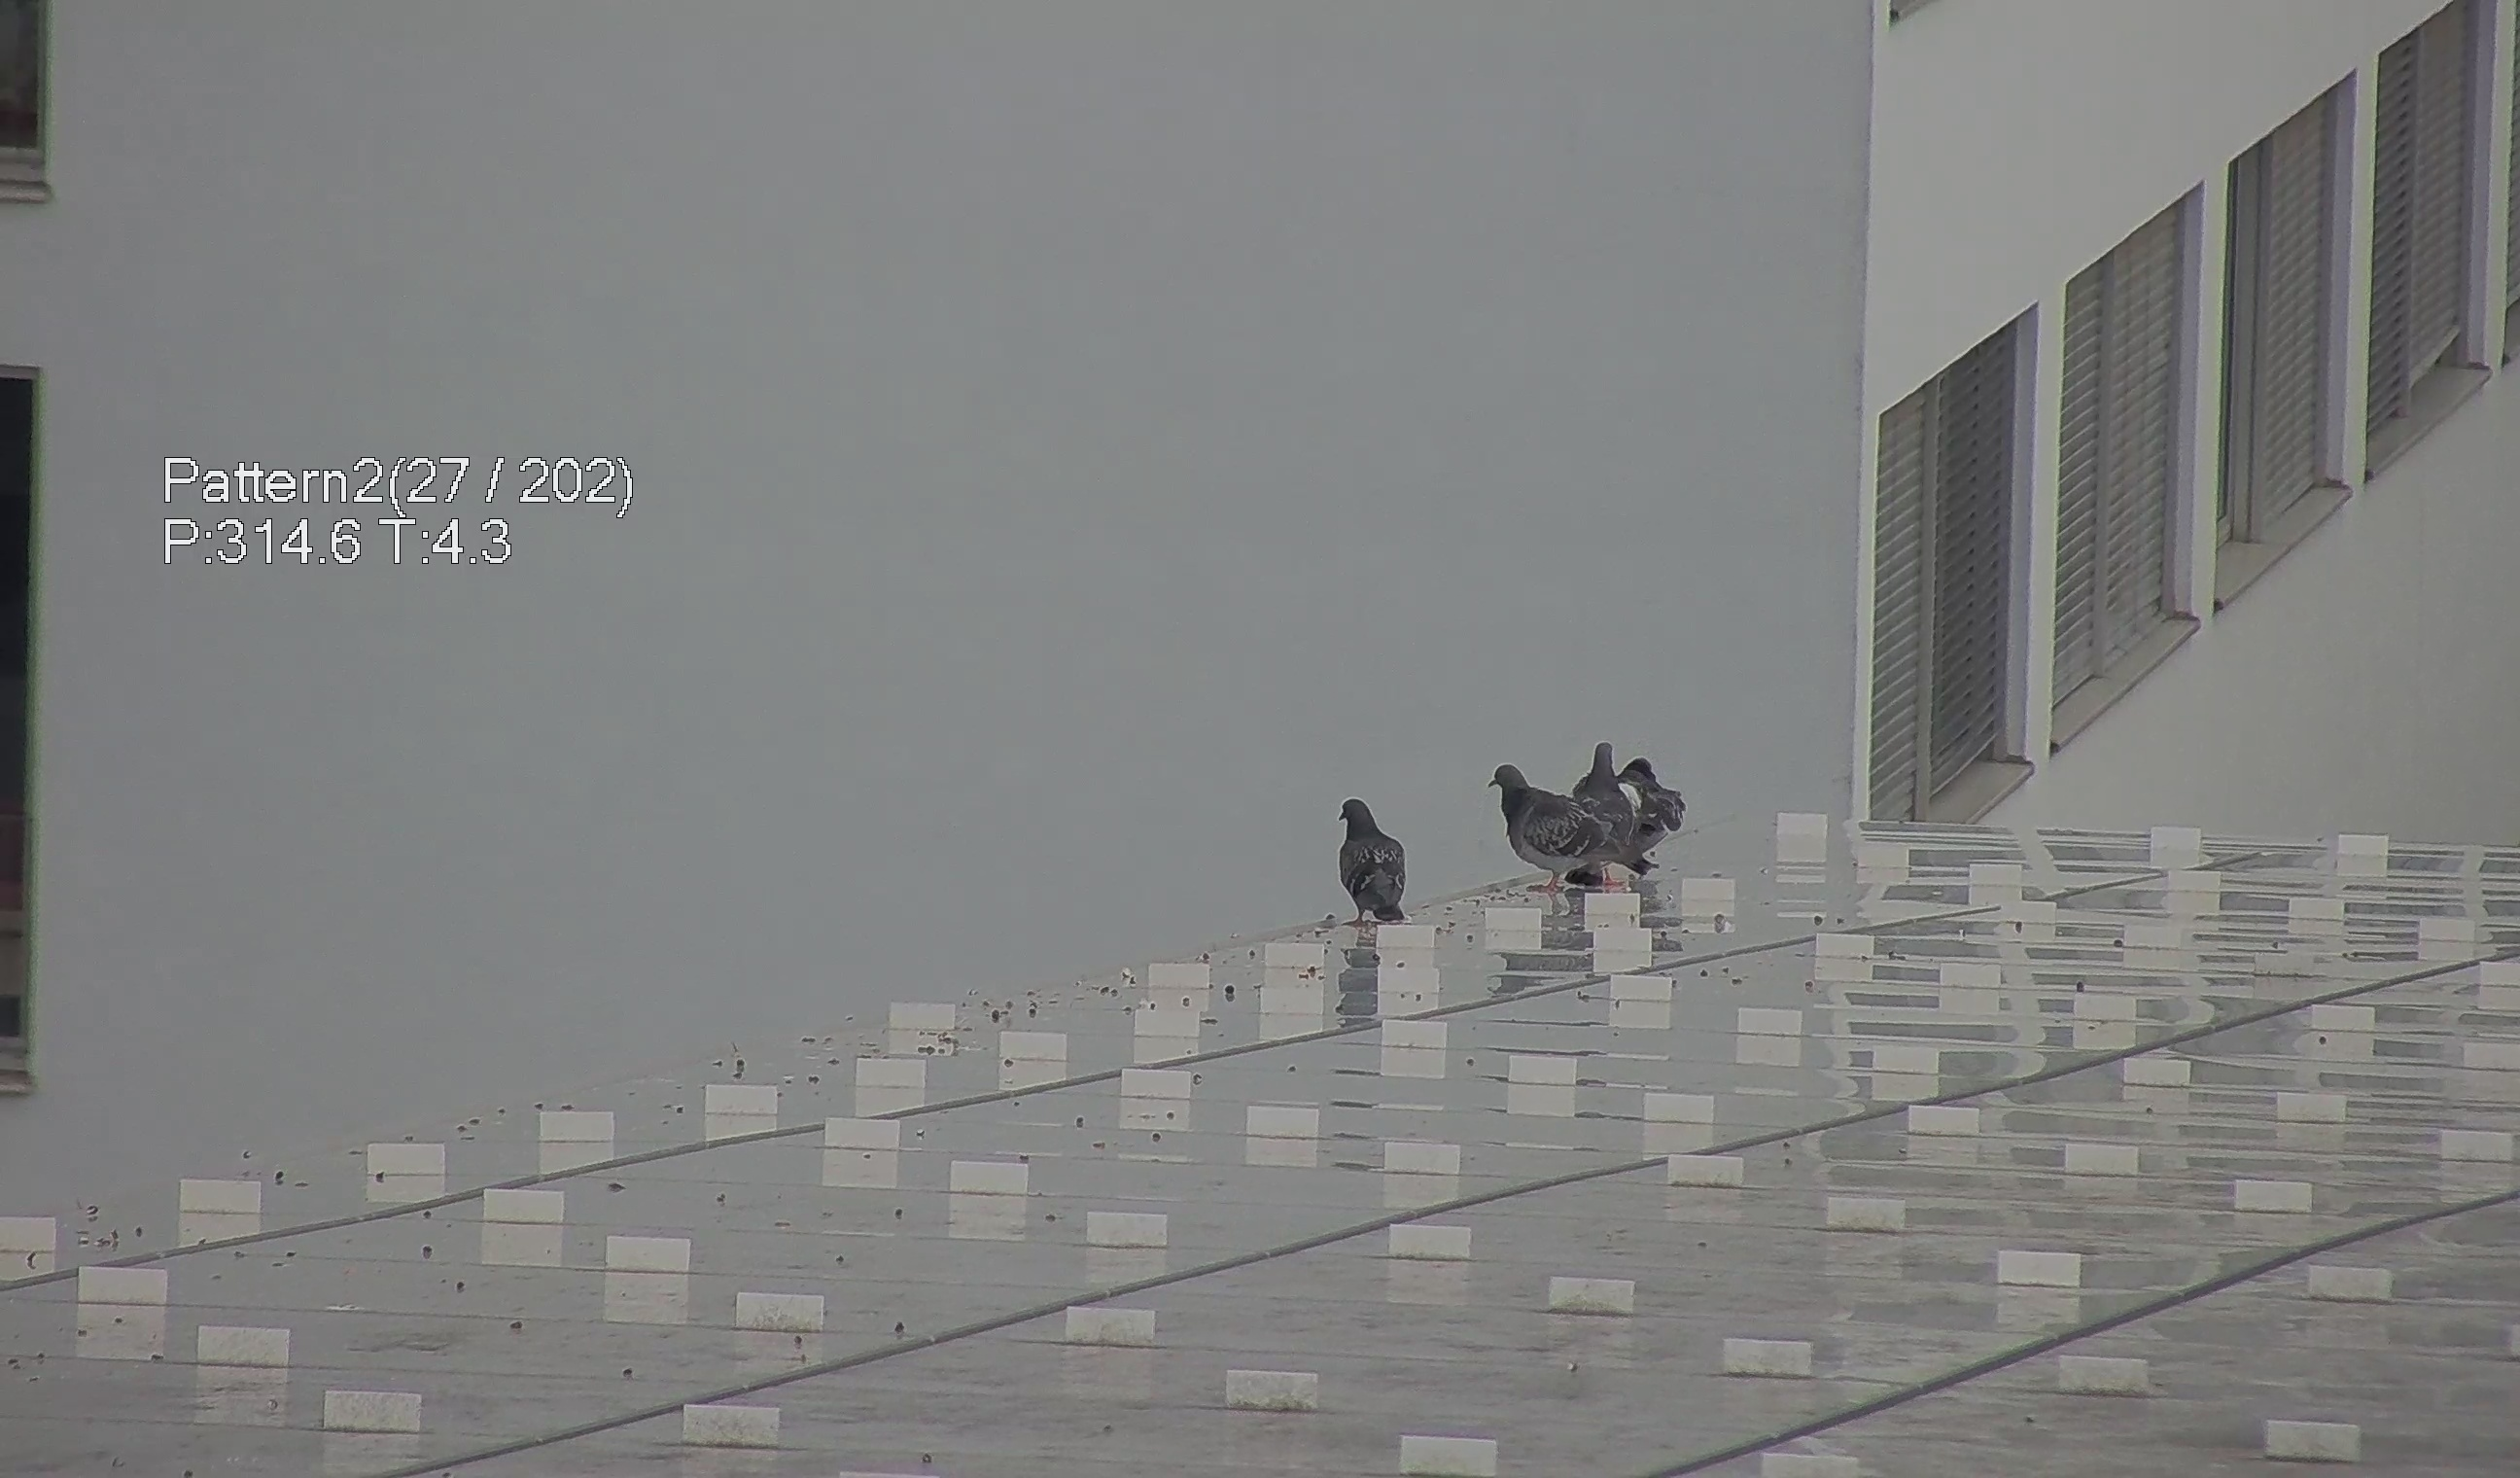Pigeon: (1488, 734, 1669, 894), (1328, 790, 1421, 927), (1574, 732, 1683, 838)
